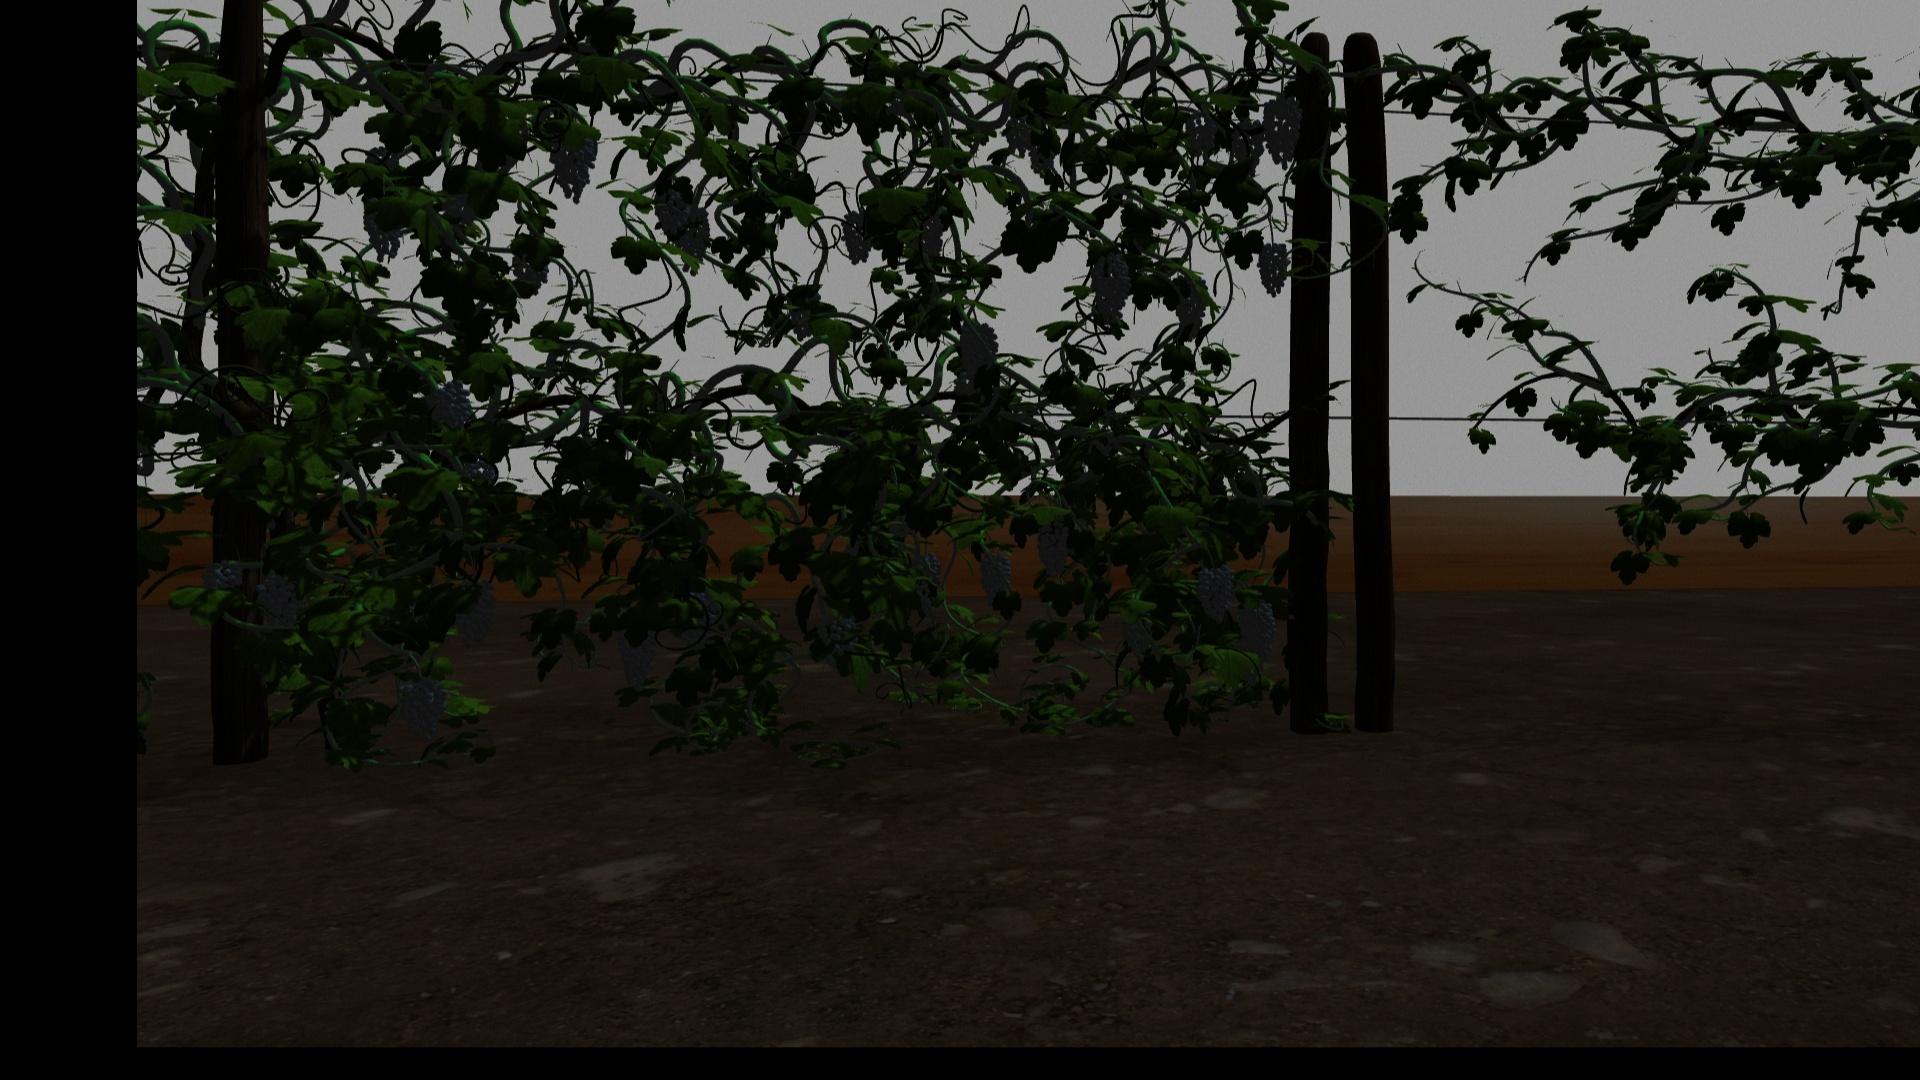grape: (396, 675, 446, 746), (549, 131, 597, 203), (448, 578, 498, 646), (1265, 95, 1304, 170), (1091, 251, 1130, 320), (617, 626, 658, 694), (957, 318, 1000, 382), (363, 198, 401, 262), (426, 377, 472, 430), (255, 574, 301, 626), (1193, 564, 1234, 622), (678, 207, 711, 276), (1174, 276, 1209, 338), (1240, 601, 1276, 661), (1036, 520, 1068, 582), (1229, 119, 1263, 174), (841, 207, 873, 266), (1255, 243, 1288, 298), (978, 550, 1010, 607), (1183, 113, 1218, 158), (654, 185, 686, 235), (198, 558, 241, 593), (1121, 615, 1153, 662), (816, 612, 855, 647), (910, 551, 942, 593)
